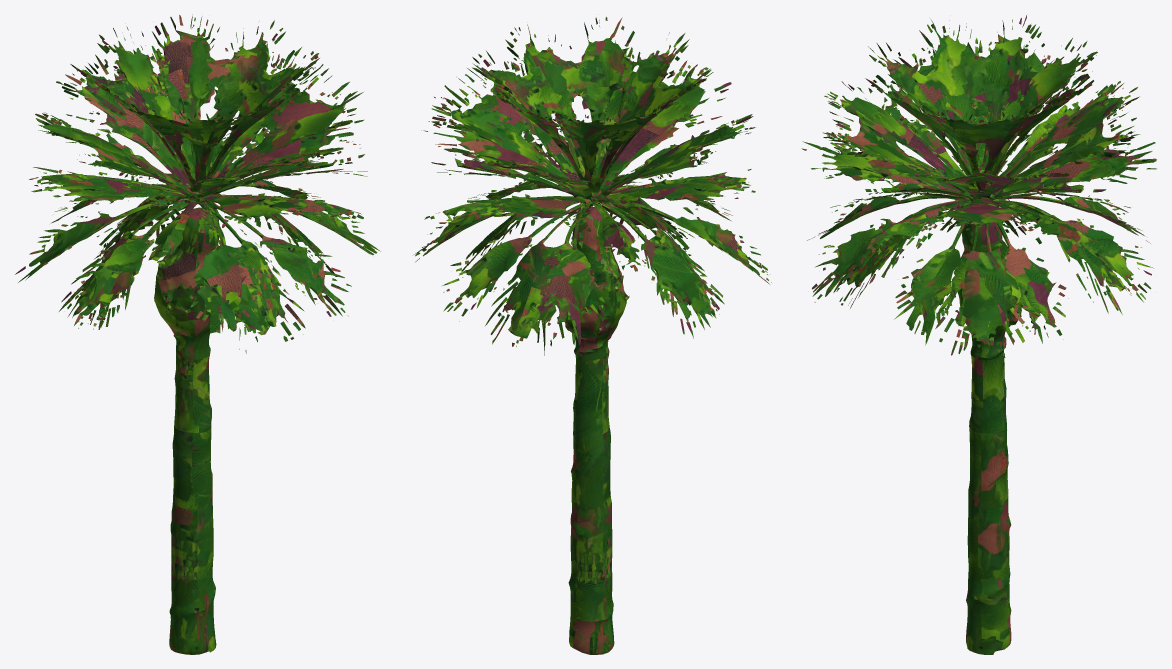
The model's file is veg_tropical_palm_01.obj.
The picture shows the model from 3 angles, left to right: view 1: azimuth 30°, elevation 25°; view 2: azimuth 150°, elevation 25°; view 3: azimuth 270°, elevation 25°; orthographic projection.
Parts seen in each view (by area): view 1: veg_tropical_palm_01; view 2: veg_tropical_palm_01; view 3: veg_tropical_palm_01.
Boxes of the visible parts, x1,y1,x2,y2 form: veg_tropical_palm_01: (15, 14, 380, 654); veg_tropical_palm_01: (414, 17, 771, 654); veg_tropical_palm_01: (801, 15, 1156, 654).
Size of the model in its own units: 5.58 by 9.96 by 5.5.
Materials: 1 (1 with a texture image).
